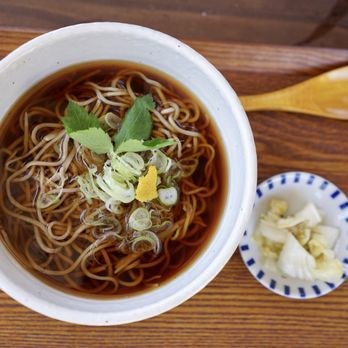Soba: (10, 61, 224, 303)
